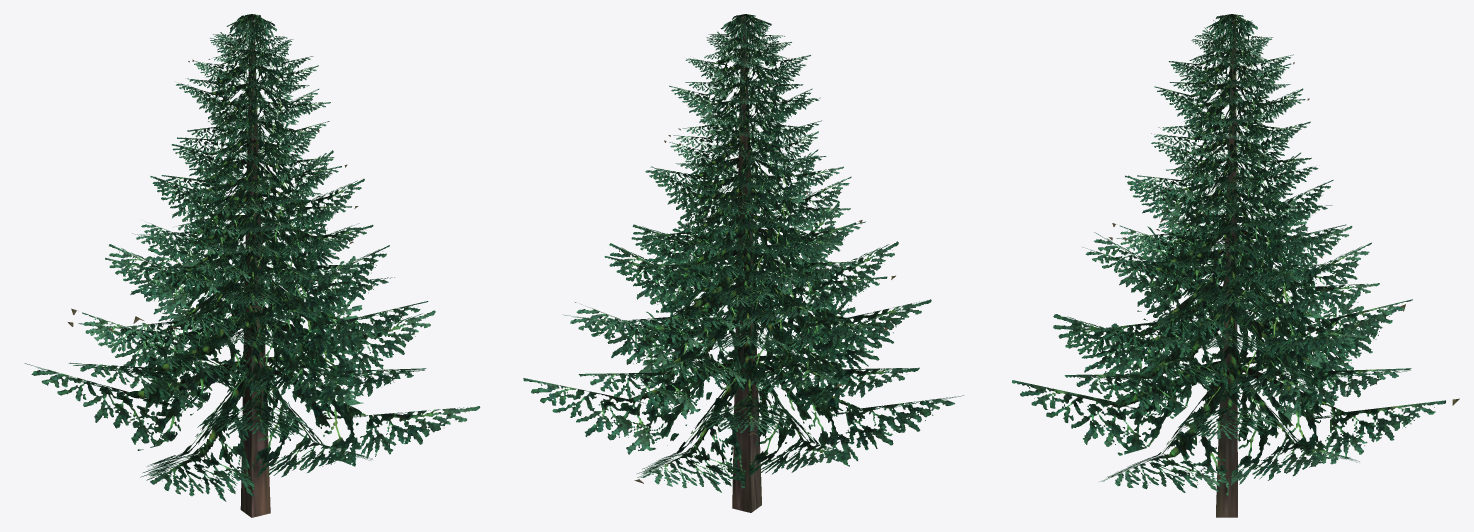
Rendered from pine_v2.glb.
3 renders of one model, left to right at view 1: azimuth 30°, elevation 25°; view 2: azimuth 150°, elevation 25°; view 3: azimuth 270°, elevation 25°, orthographic.
Parts seen in each view (by area): view 1: pine; view 2: pine; view 3: pine.
Boxes of the visible parts, left/top/right/bottom form: pine: left=24, top=14, right=480, bottom=517; pine: left=523, top=14, right=963, bottom=512; pine: left=1012, top=14, right=1459, bottom=517.
Size of the model in its own units: 4.61 by 5.92 by 4.92.
1 material, 1 textured.
